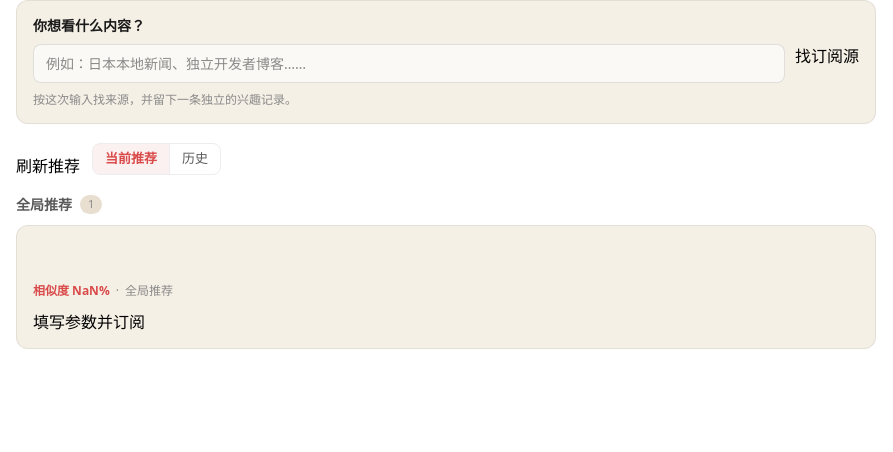
Test case: DiscoveryPanel — 查询流状态机（S1） › ask 启动即失败：显示失败态与可定位错误
Type "量子计算" into the field labelled "你想看什么内容？" at (409, 64), box x1=33 y1=44 x2=785 y2=83
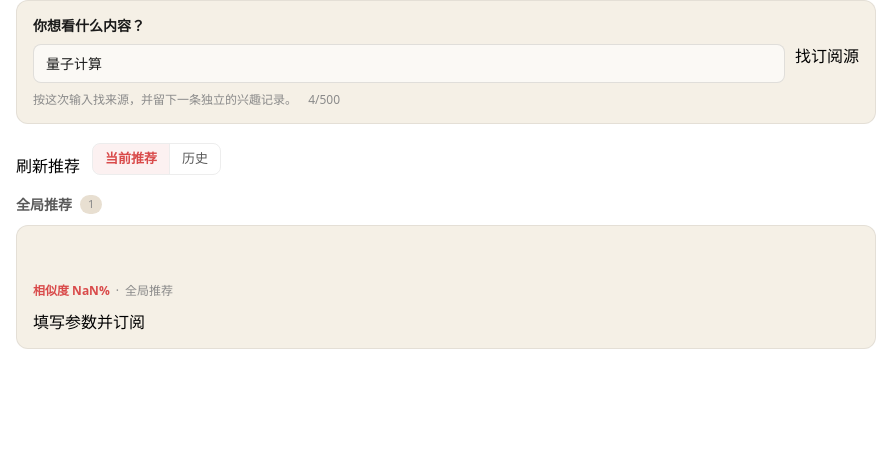
Submit the form with test id "discovery-query-form", box x1=16 y1=0 x2=876 y2=124
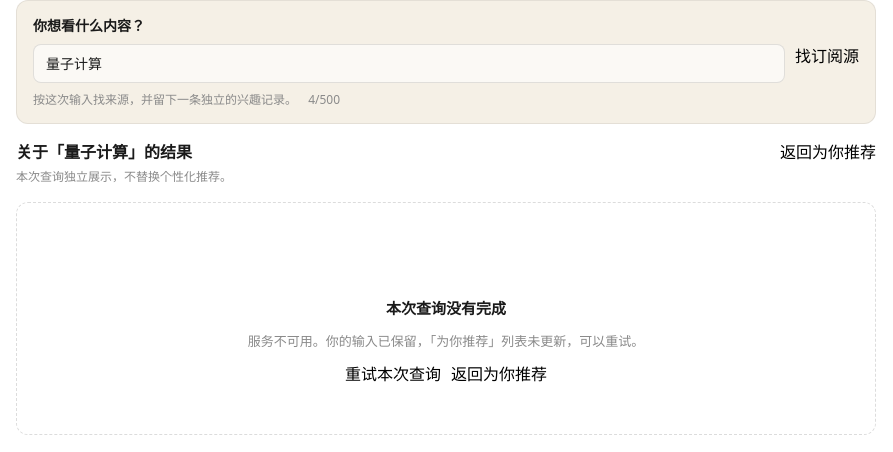
Check: the element with test id "discovery-run-failed" is shown, box x1=16 y1=202 x2=876 y2=435
Check: the element with test id "discovery-run-failed" shows "服务不可用", box x1=248 y1=332 x2=644 y2=350
